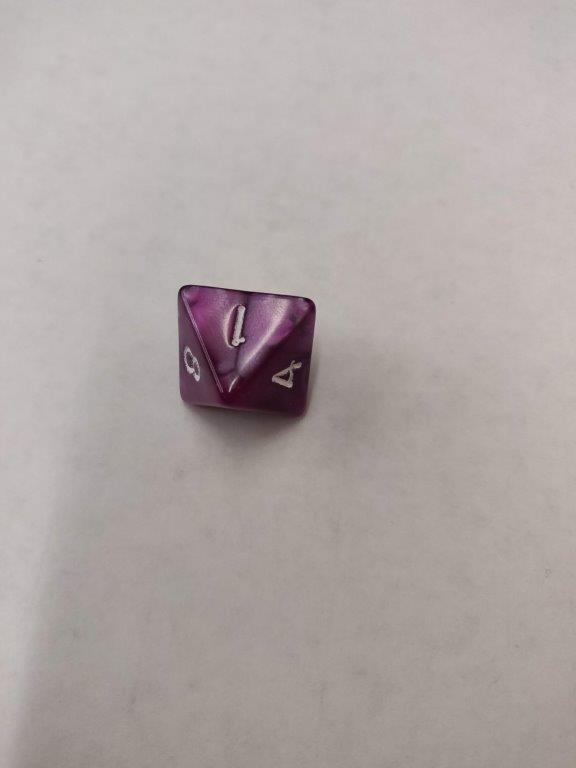d8-1: (175, 281, 316, 416)
